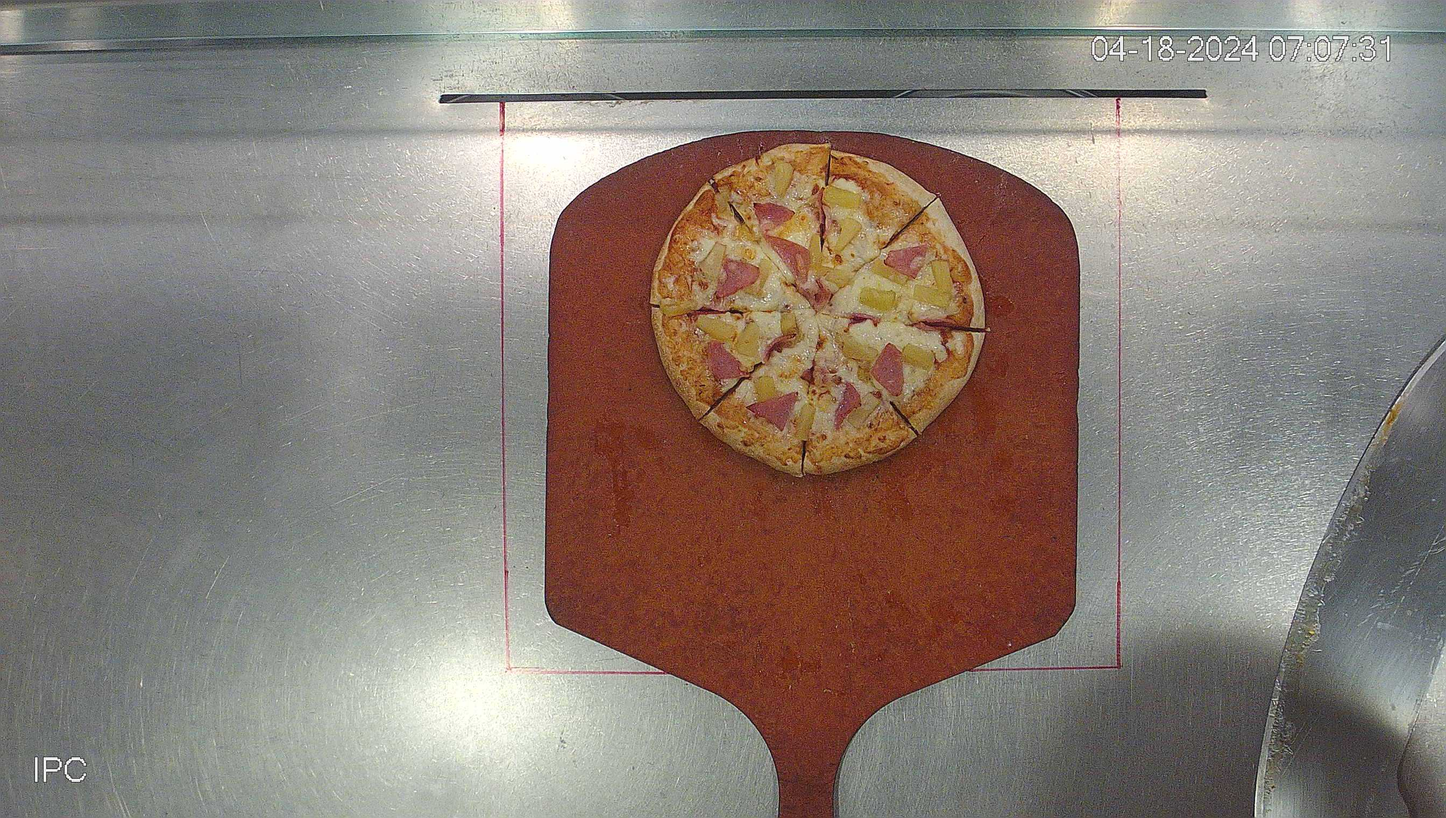manager_choice: (649, 144, 987, 477)
